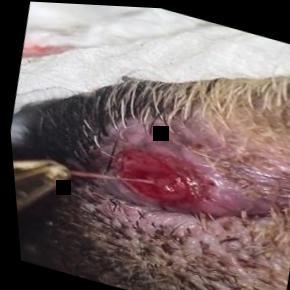skin_lesions: (101, 138, 223, 222)
